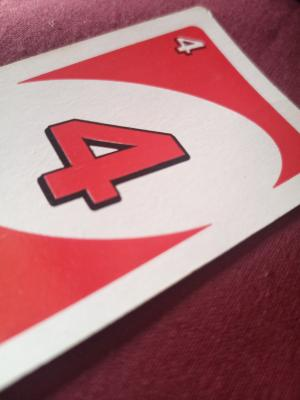num_4: (166, 23, 211, 64)
